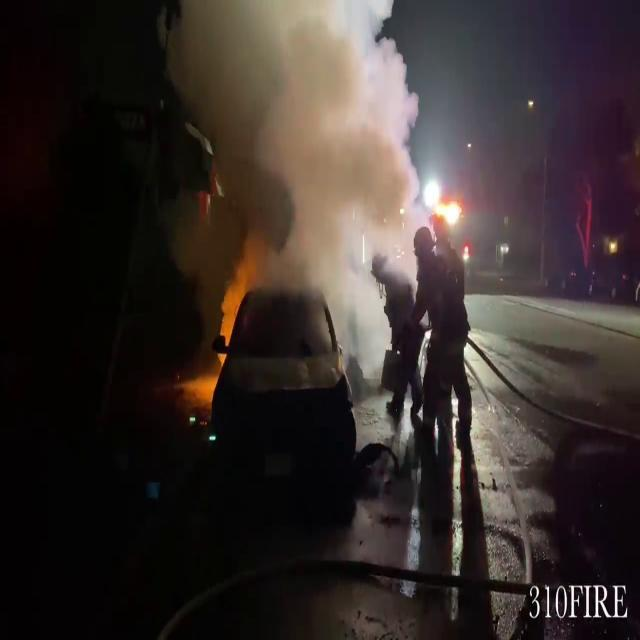Smoke: (163, 0, 426, 319)
